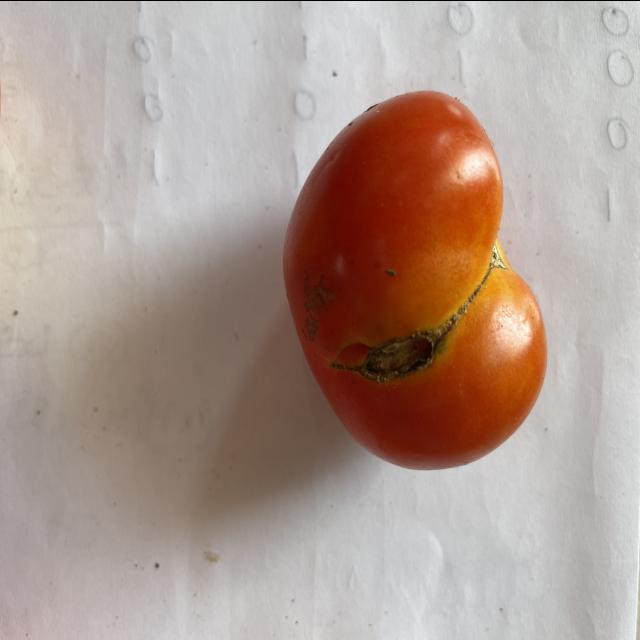tomato_cracking: (325, 322, 448, 384)
